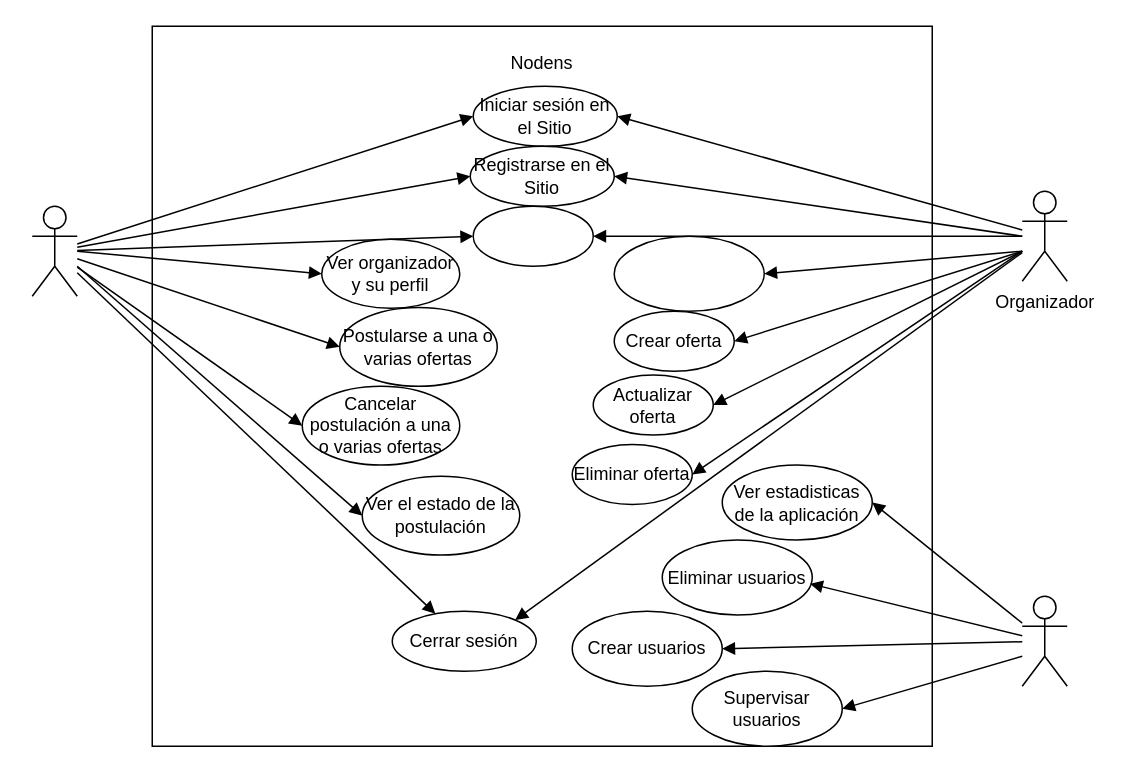
This 1125x773 diagram has some shape labels left out. The centre of each missing label's shape, as x and y in pixels:
"Administrador" goes at (1044,640).
"Musico" goes at (54,250).
"Ver ofertas" goes at (532,235).
"Ver postulantes y sus perfiles" goes at (688,273).
